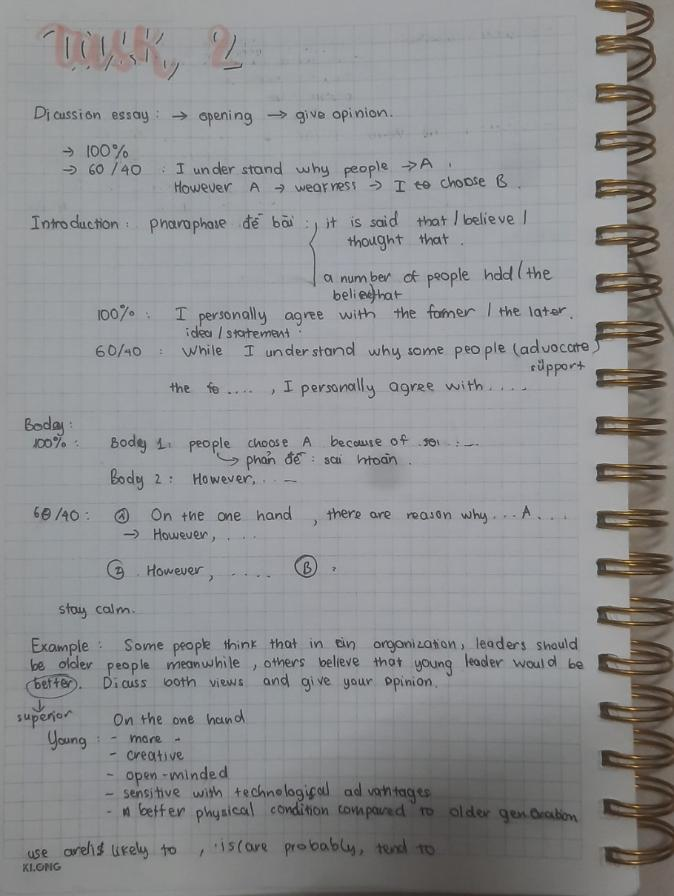text: (28, 19, 248, 88), (29, 632, 581, 659), (95, 333, 603, 362), (26, 206, 533, 235), (28, 651, 587, 677), (26, 832, 439, 864), (112, 500, 571, 527), (104, 801, 580, 827), (94, 301, 574, 325), (168, 374, 530, 404), (30, 101, 391, 131), (107, 427, 482, 453), (60, 154, 435, 179), (172, 171, 510, 197), (30, 673, 437, 694), (104, 780, 435, 805), (105, 552, 338, 586), (322, 257, 556, 287), (108, 467, 298, 495), (217, 448, 414, 474), (42, 728, 184, 754), (105, 763, 231, 789), (111, 707, 247, 729), (123, 526, 259, 545), (346, 232, 453, 255), (183, 321, 292, 343), (57, 599, 138, 623), (331, 284, 403, 306), (61, 139, 132, 161), (13, 708, 74, 732), (108, 747, 187, 765), (30, 506, 92, 528), (23, 412, 75, 438), (30, 431, 82, 455), (20, 859, 62, 877)
